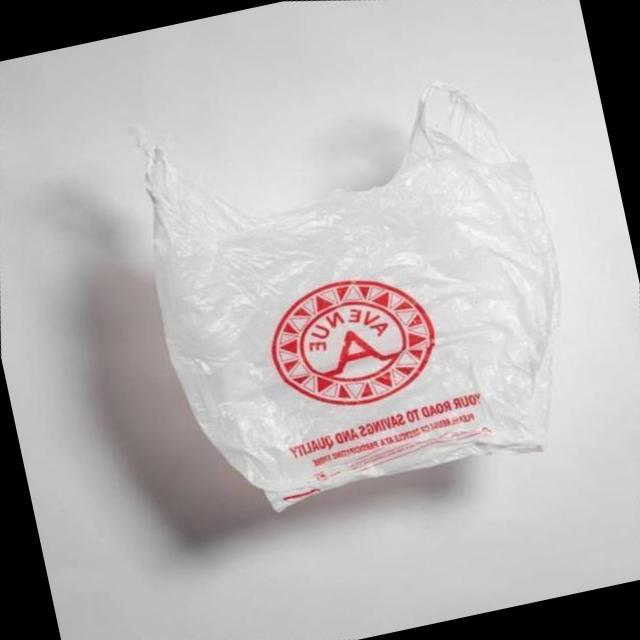KantongPlastik: (118, 47, 598, 529)
